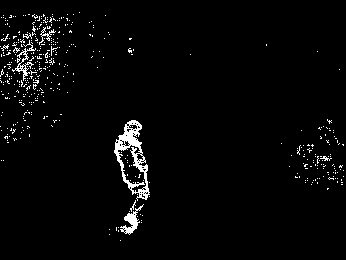person: (111, 118, 153, 238)
